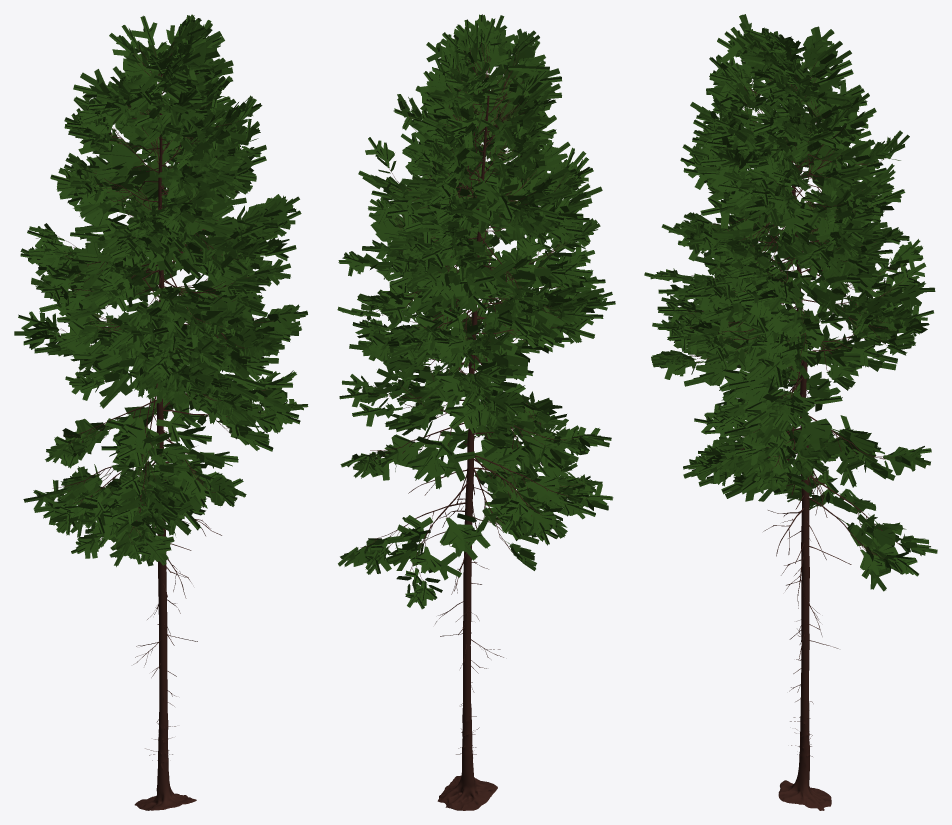
Rendered from fir_a_lod0.obj.
3 views of the same model, side by side, from view 1: azimuth 30°, elevation 25°; view 2: azimuth 150°, elevation 25°; view 3: azimuth 270°, elevation 25° (orthographic). The views are drawn at different scales.
Parts seen in each view (by area): view 1: fir_a_lod0; view 2: fir_a_lod0; view 3: fir_a_lod0.
Part boxes in pixels (<box>): fir_a_lod0: <box>14,14,308,810</box>; fir_a_lod0: <box>337,14,615,810</box>; fir_a_lod0: <box>644,14,937,810</box>.
Bounding box in the file's own units: 259 × 746 × 255.
